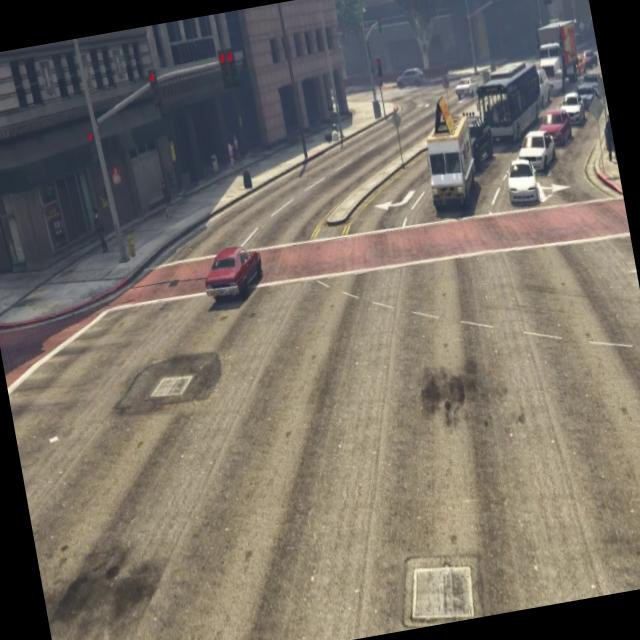Red-Signal: (68, 108, 109, 172), (134, 54, 176, 116), (208, 38, 243, 104)
